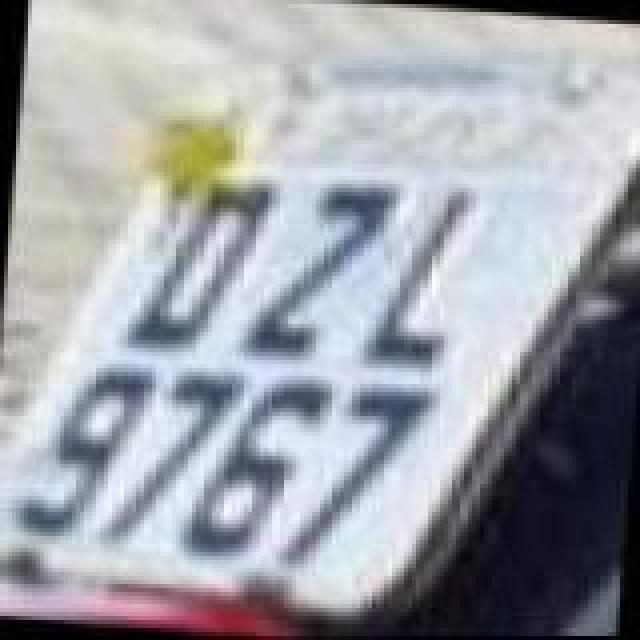6: (176, 364, 340, 564)
7: (270, 368, 454, 576), (92, 356, 252, 548)
9: (8, 352, 160, 544)
D: (112, 162, 276, 354)
L: (356, 178, 488, 378)
Z: (232, 172, 404, 368)
